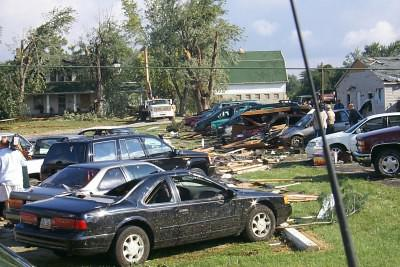Rear-windscreen-Damage: (93, 179, 143, 203)
